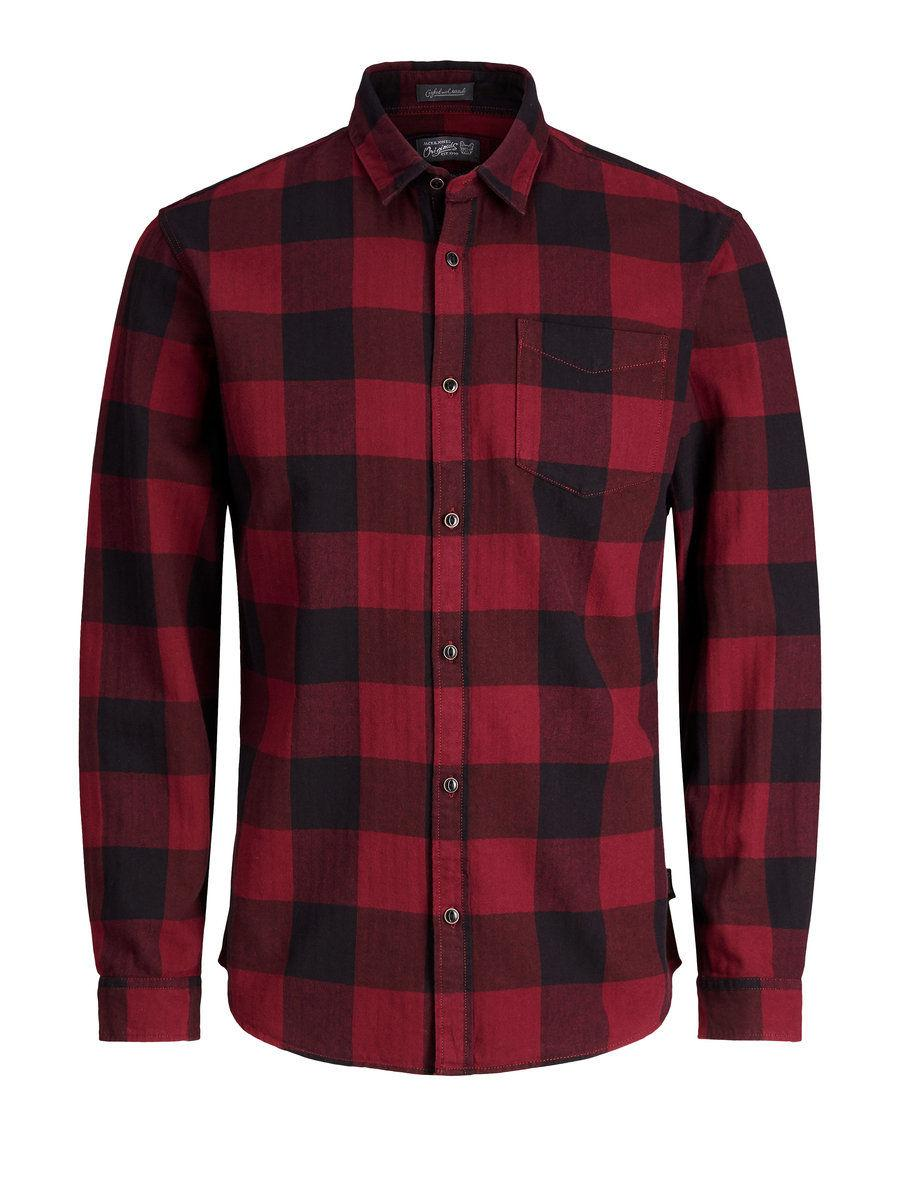teeshirt: (56, 54, 831, 1058)
